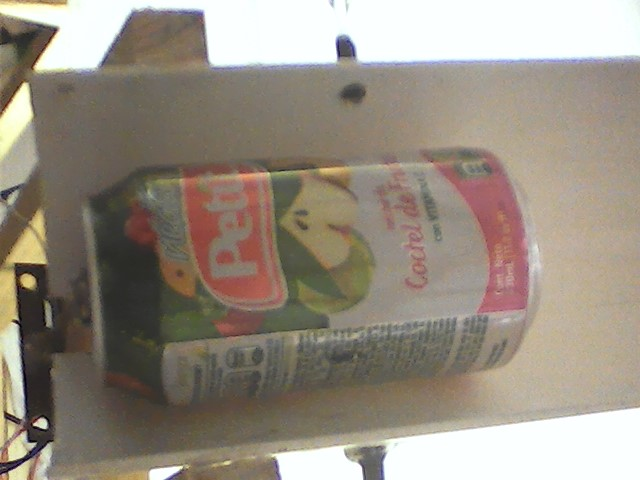lata: (76, 141, 553, 417)
